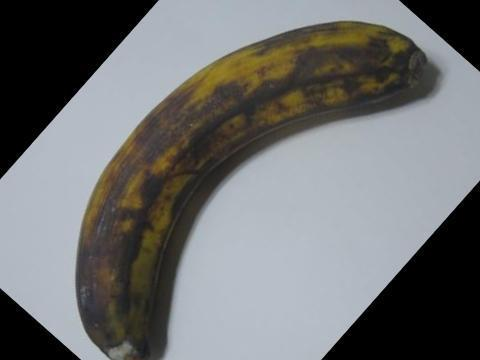overripe: (60, 11, 436, 359)
